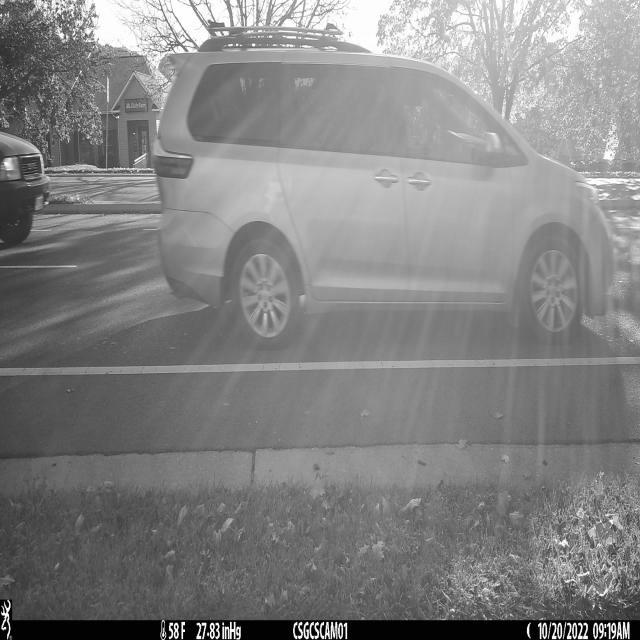Van: (151, 32, 619, 346)
